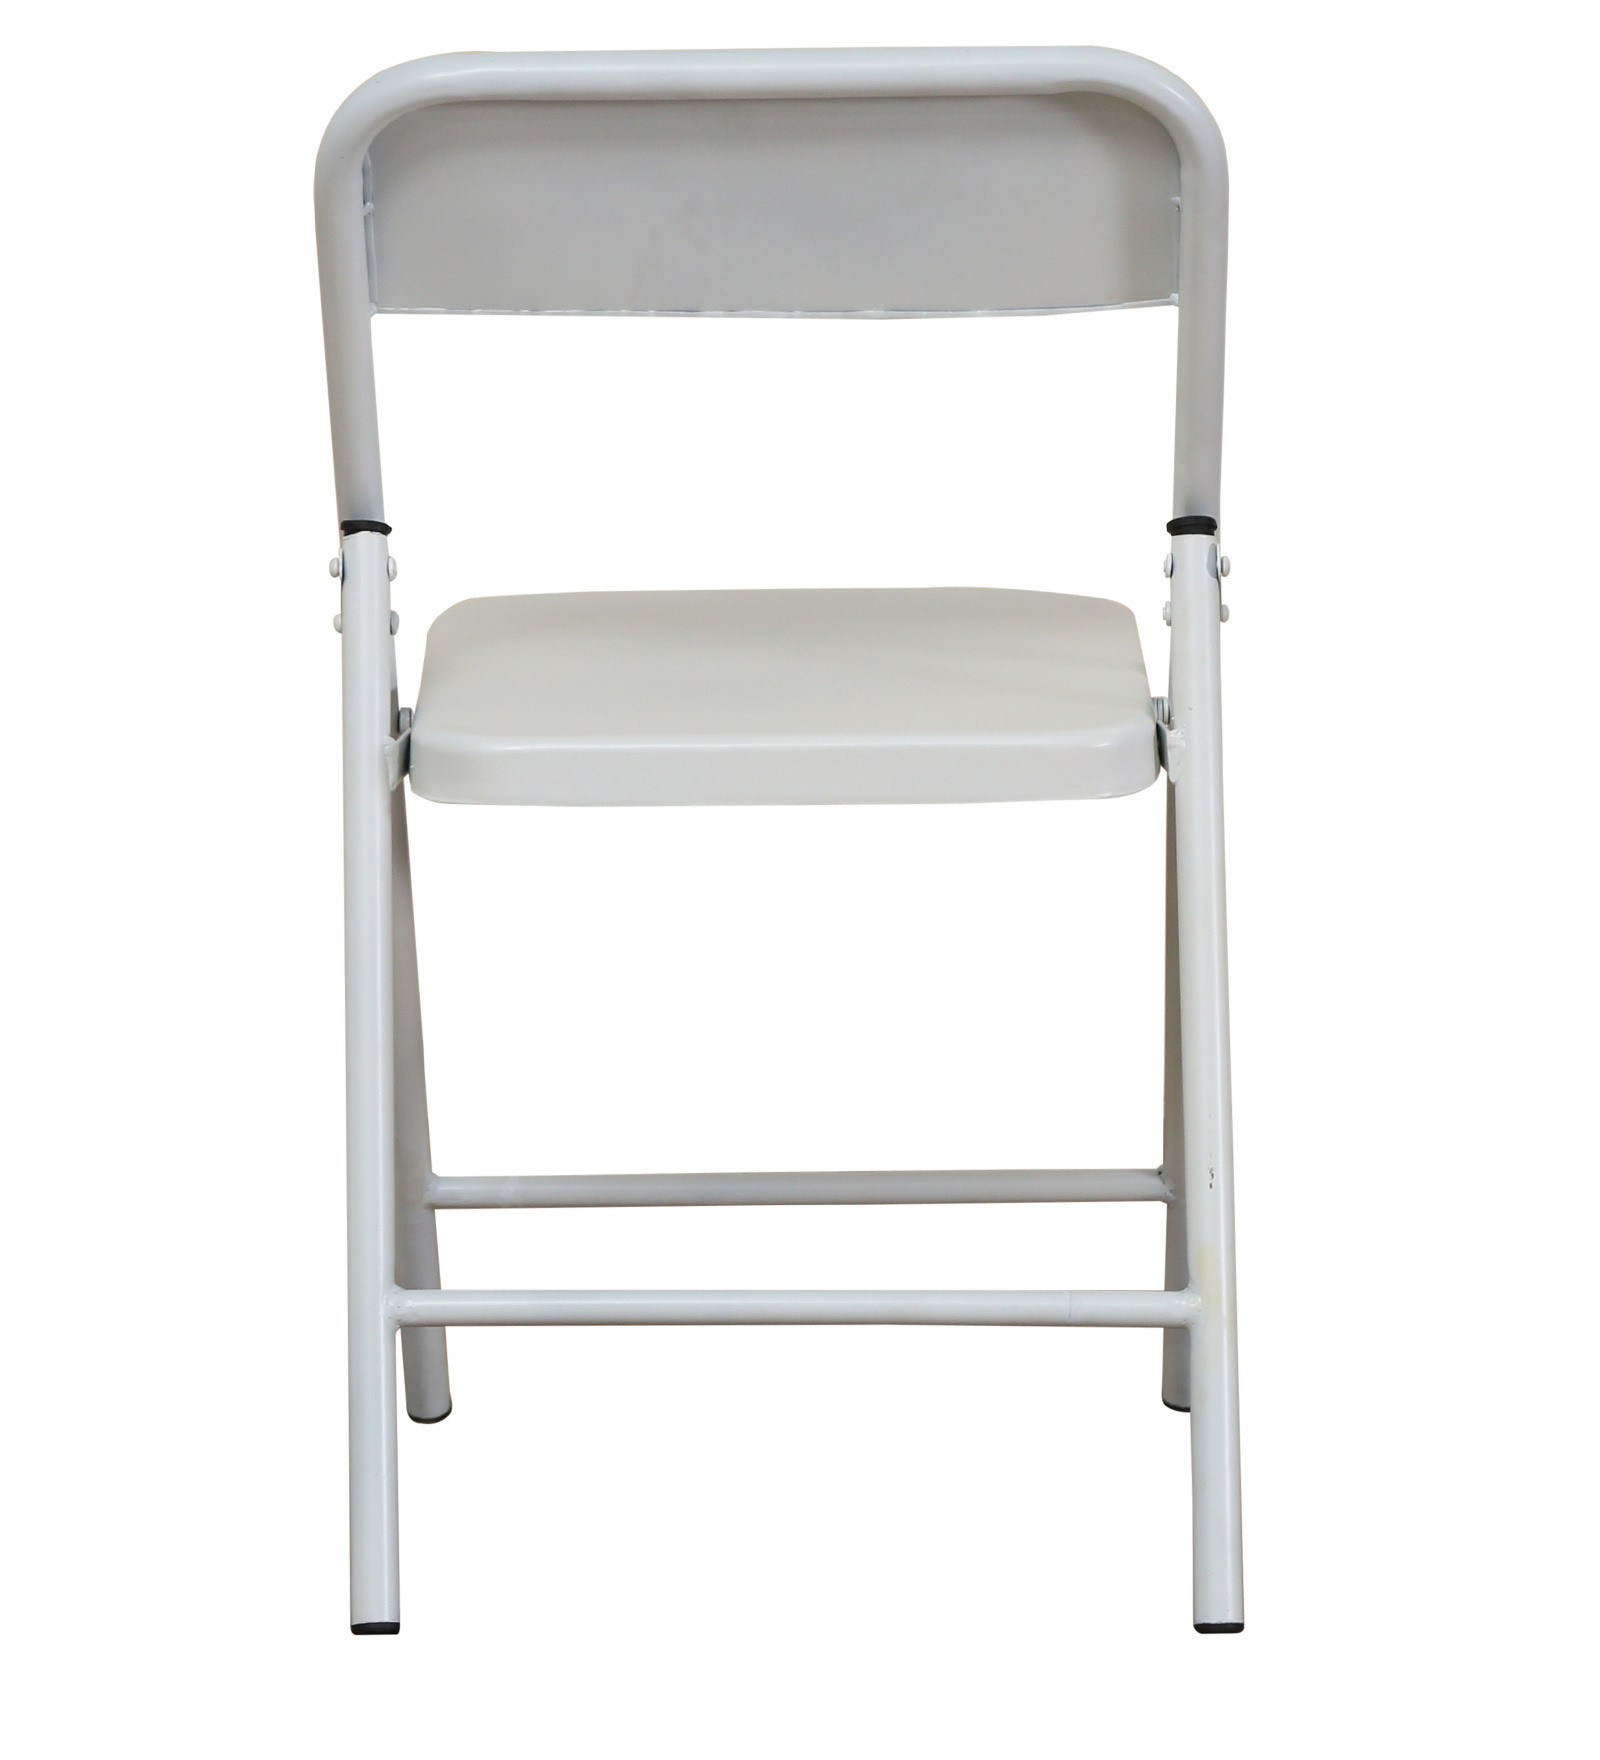Kell Folding Chair (Set of 2) in White Color by Bohemiana: (236, 20, 1330, 1720)
